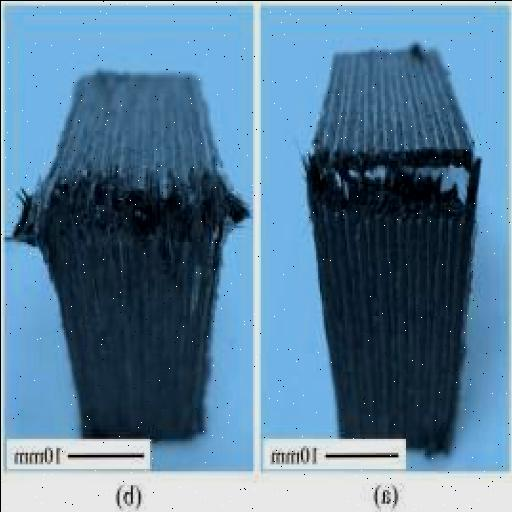cracks: (6, 167, 248, 255), (298, 139, 480, 221)
